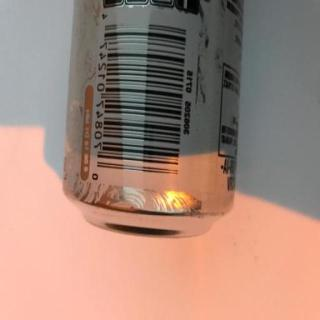Anorganik: (59, 0, 250, 245)
